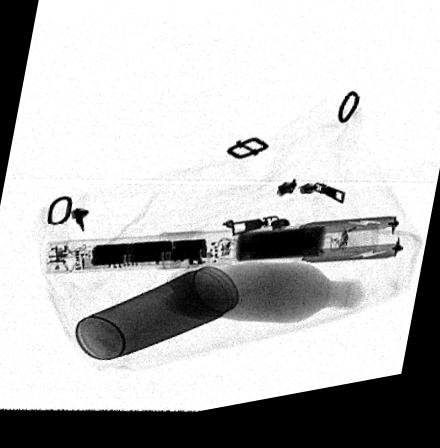Baton: (42, 231, 403, 277)
